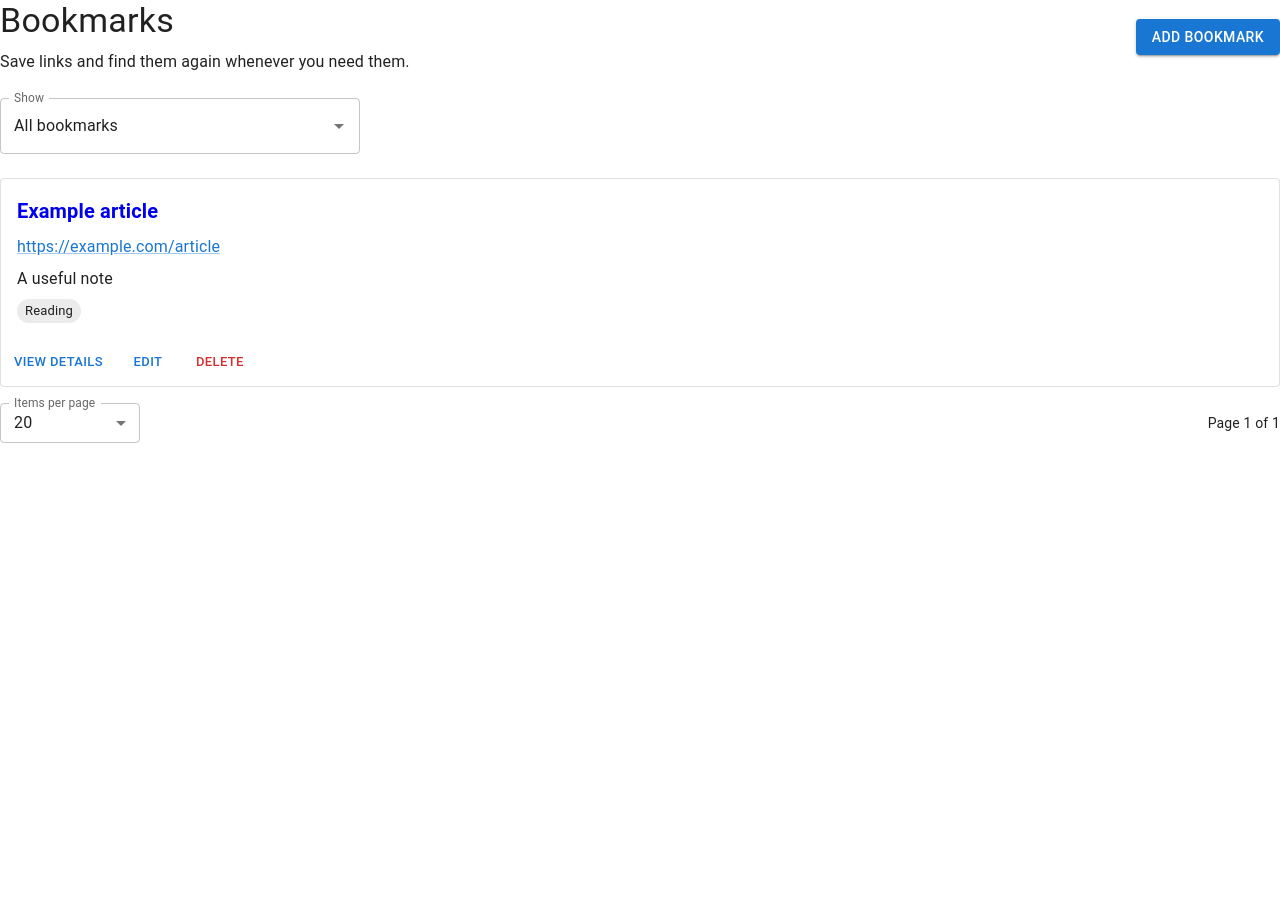
Test: BookmarksPage › uses an accessible delete confirmation and refetches metadata after confirmation
Expected: the link "Example article" is shown, [17,199,158,223]
Click the button "Delete": (220, 362) [188,347,252,378]
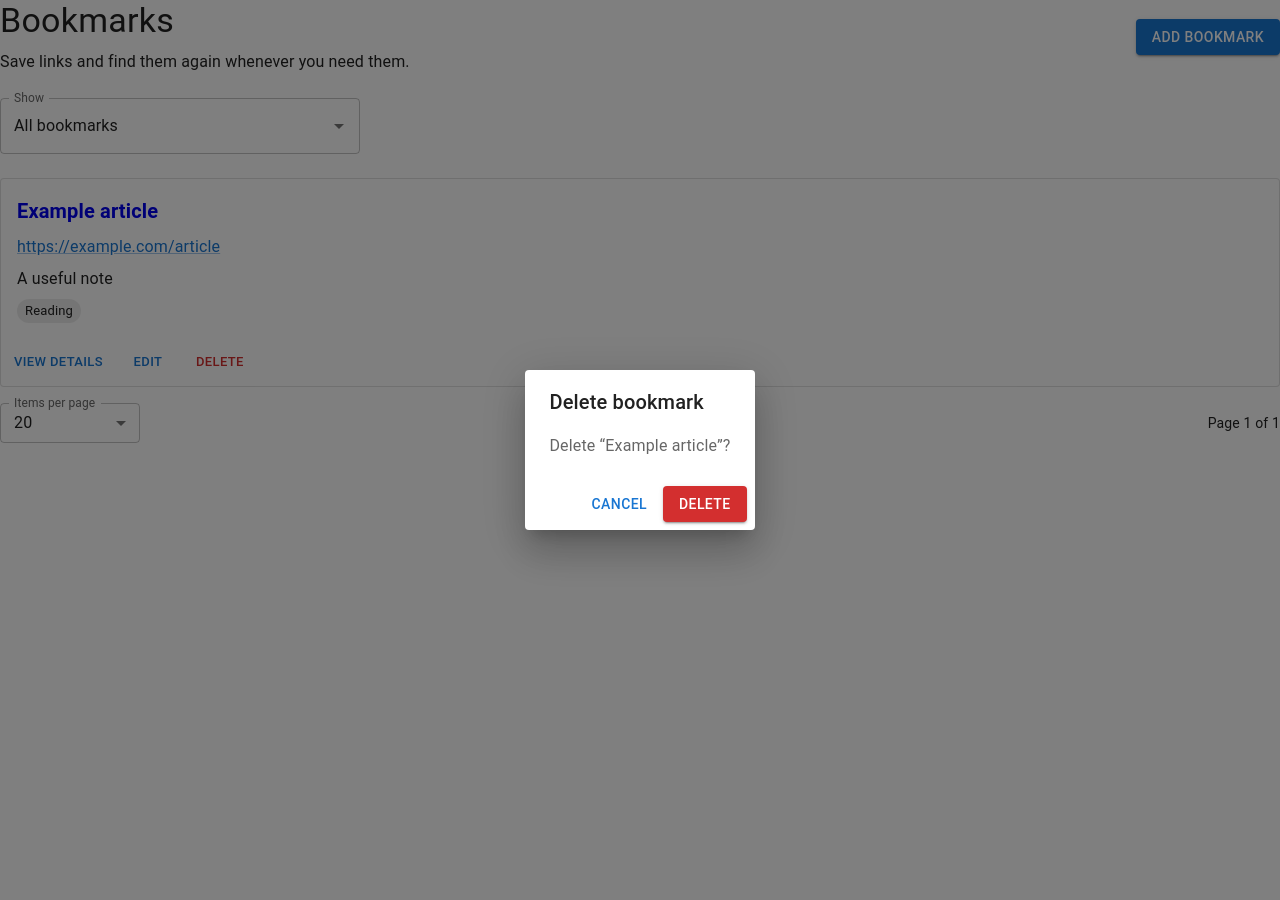
Click the button "Cancel": (619, 504) [584,486,655,522]
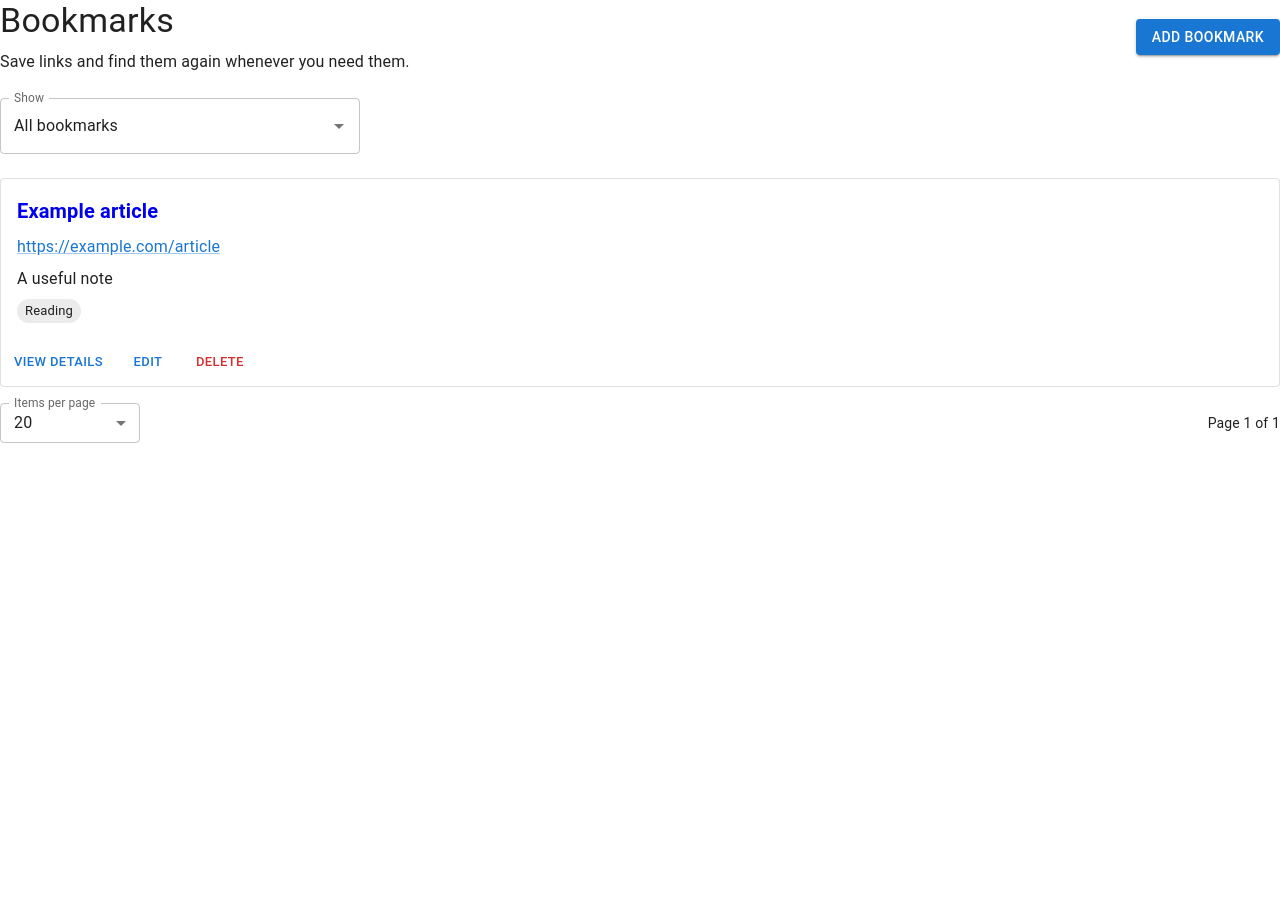
Expected: the link "Example article" is shown, [17,199,158,223]
Now the dialog is gone
Click the button "Delete": (220, 362) [188,347,252,378]
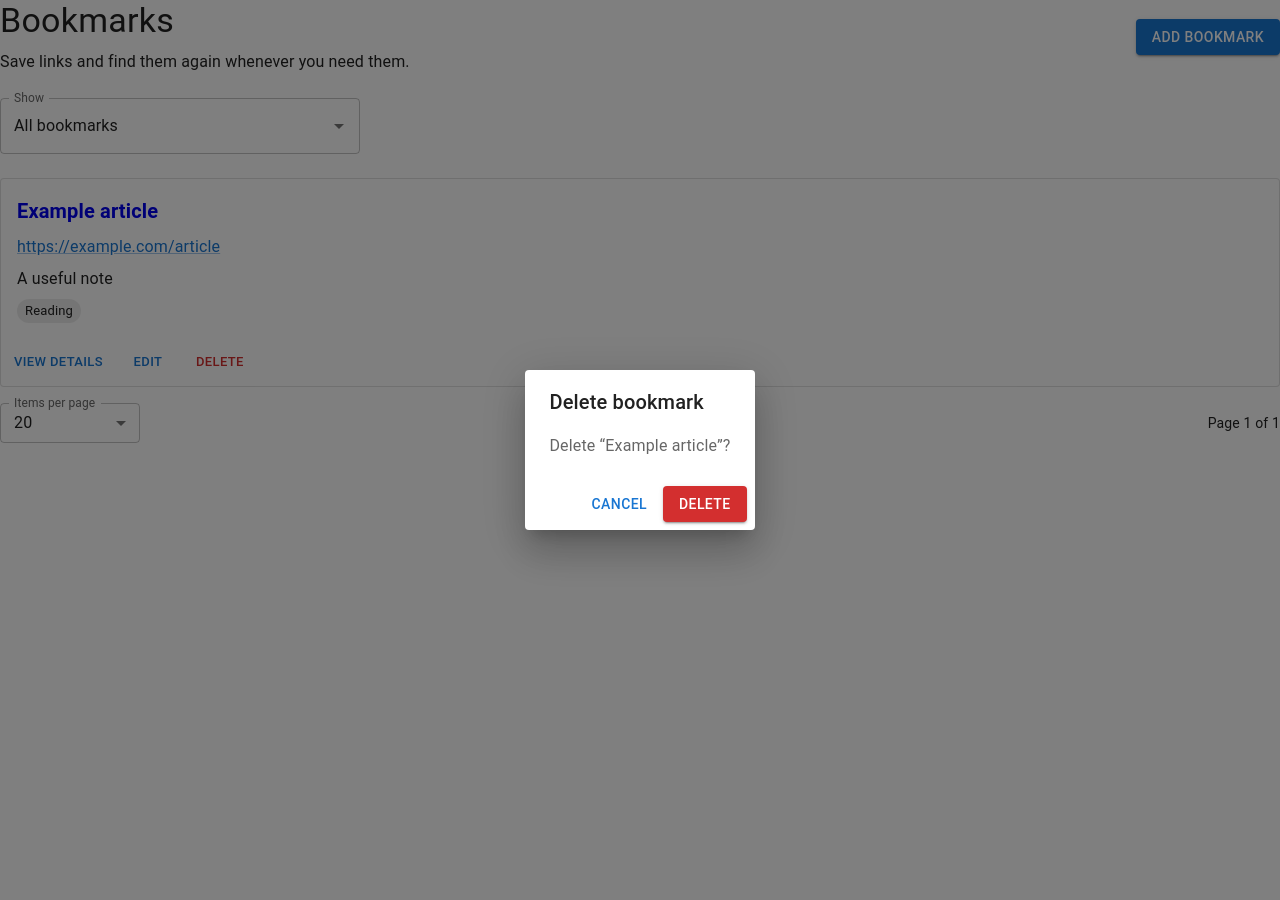
Click the button "Delete": (705, 504) [663,486,746,522]
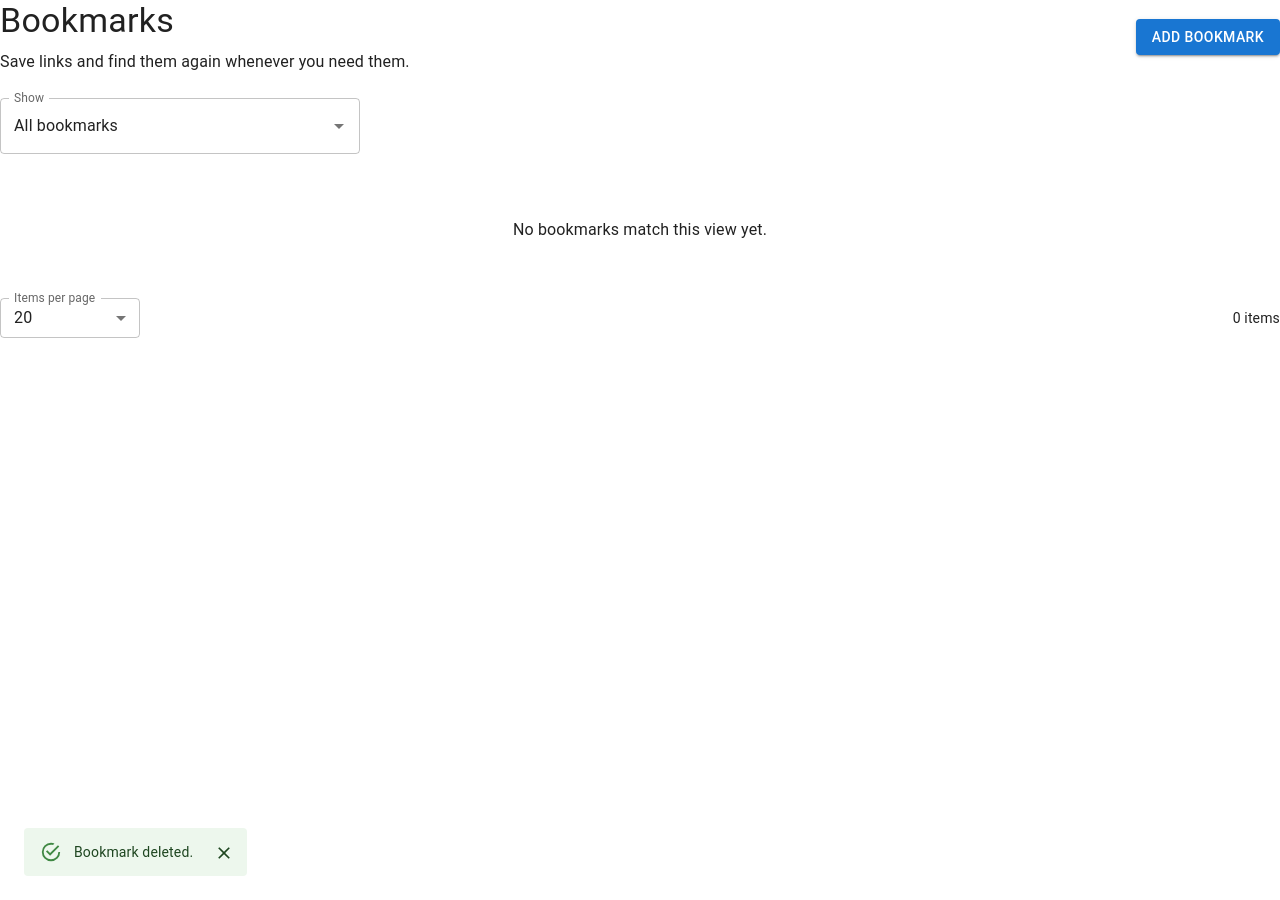
Now the text "No bookmarks match this view yet." is shown, box [513,220,767,239]
